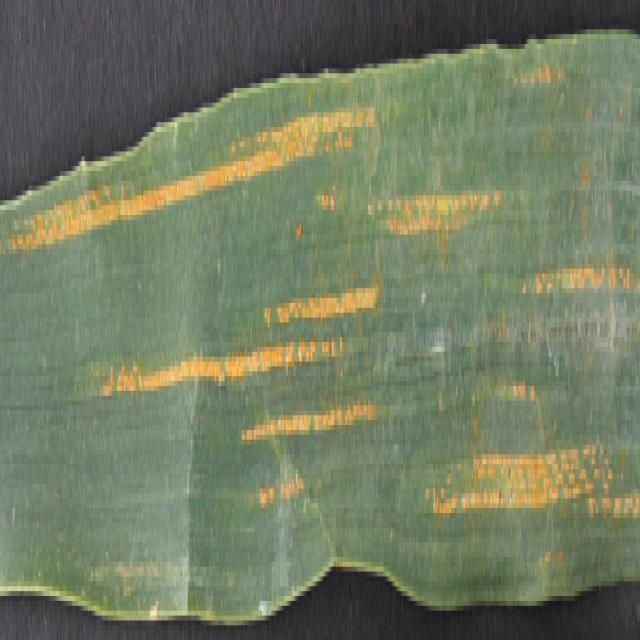leaf rust: (5, 146, 638, 562)
